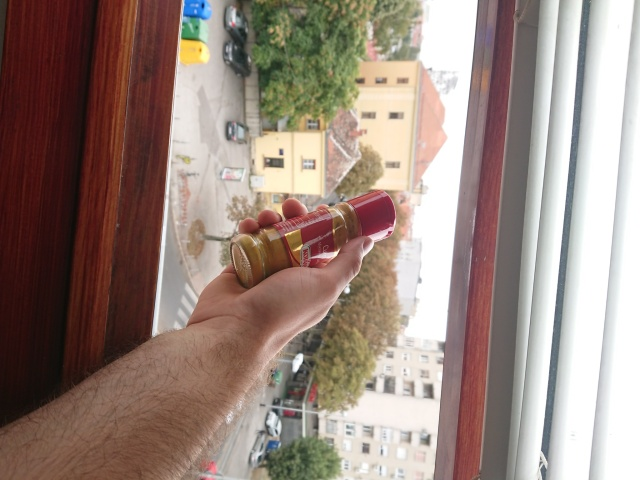Kotanyi Curry Spices Mix 70g: (227, 187, 398, 292)
